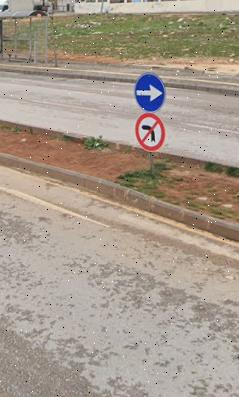leftturnsareforbidden: (137, 115, 166, 150)
turnright: (134, 73, 165, 111)
